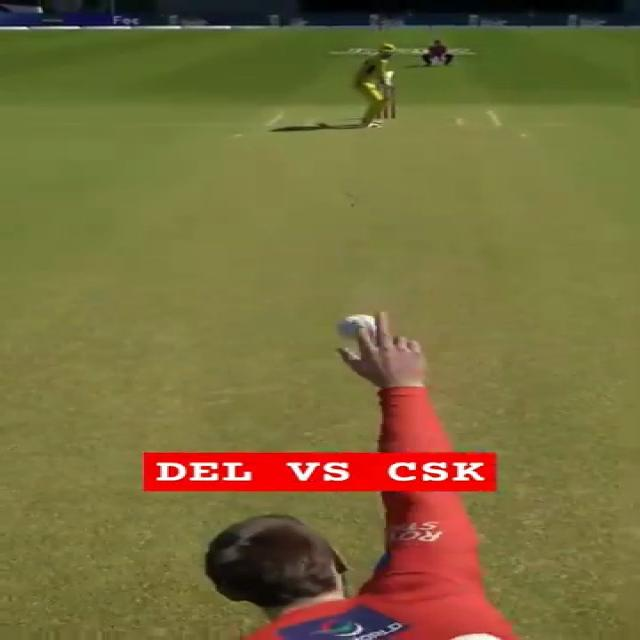ball: (336, 312, 379, 339)
